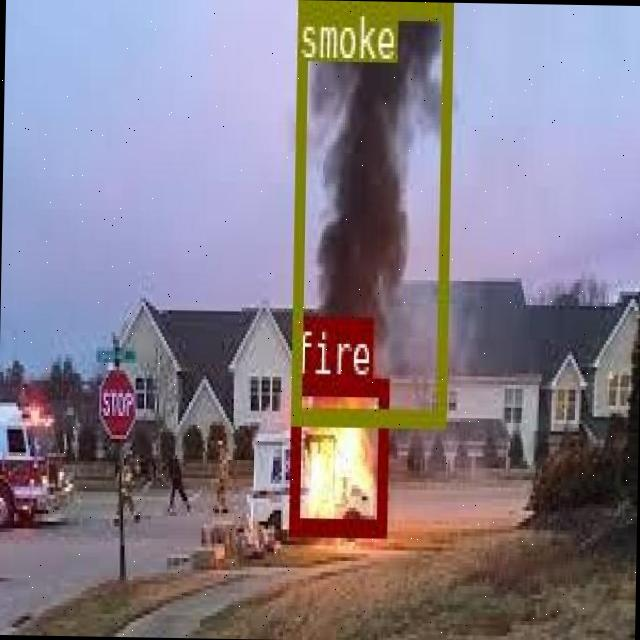fire: (288, 374, 387, 532)
smoke: (289, 0, 450, 425)
